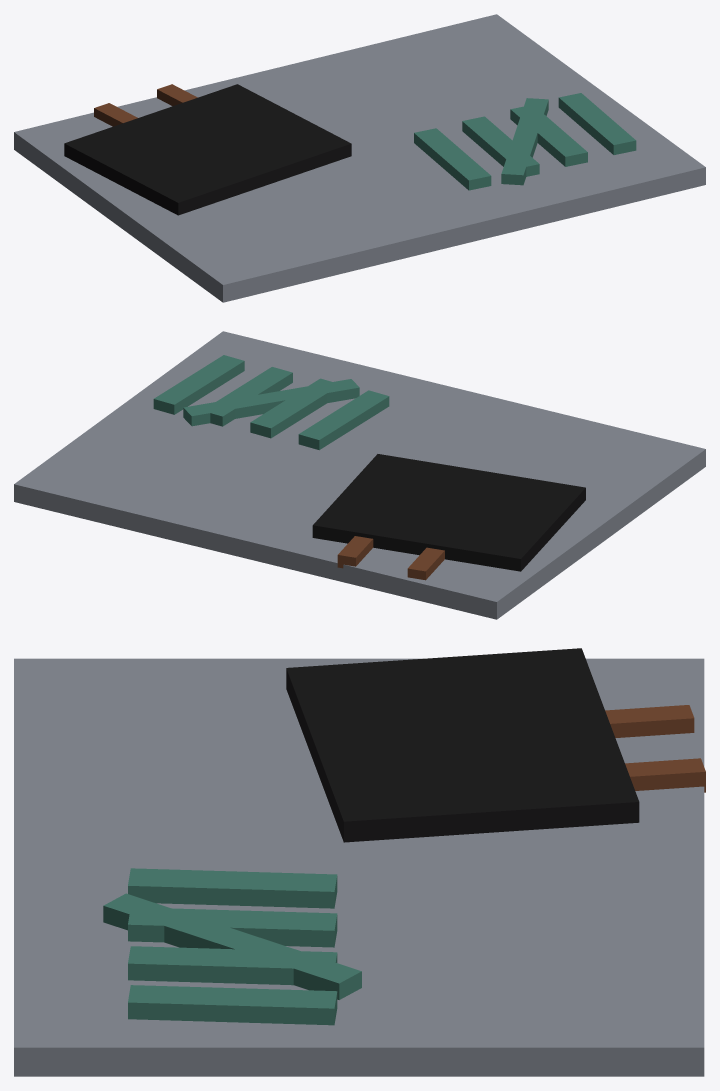
File: salvage_kills.glb
3 views of the same model, one above another, from view 1: azimuth 30°, elevation 25°; view 2: azimuth 150°, elevation 25°; view 3: azimuth 270°, elevation 25° (orthographic). The views are drawn at different scales.
Bounding box in the file's own units: 0.4 × 0.024 × 0.3007.
